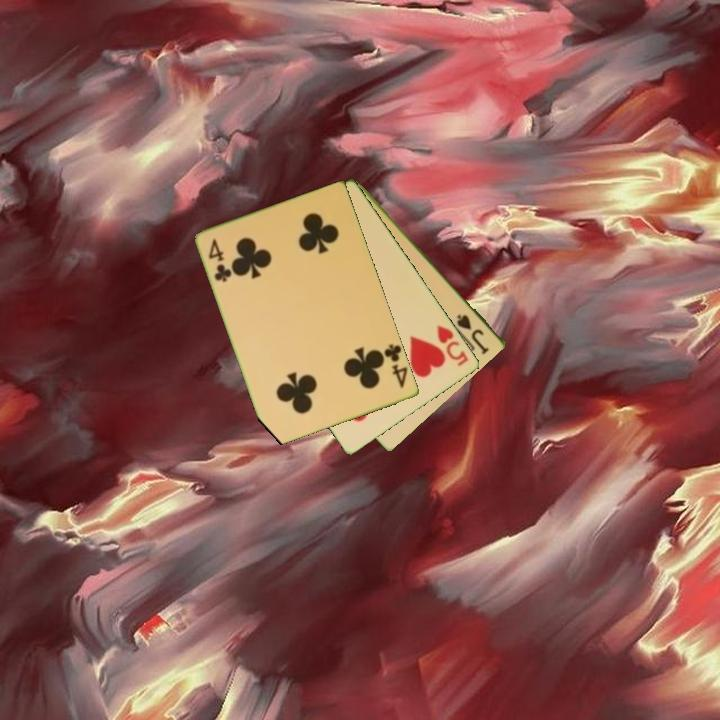4c: (381, 340, 411, 391), (205, 235, 234, 285)
5h: (434, 321, 472, 369)
Js: (453, 310, 492, 356)
